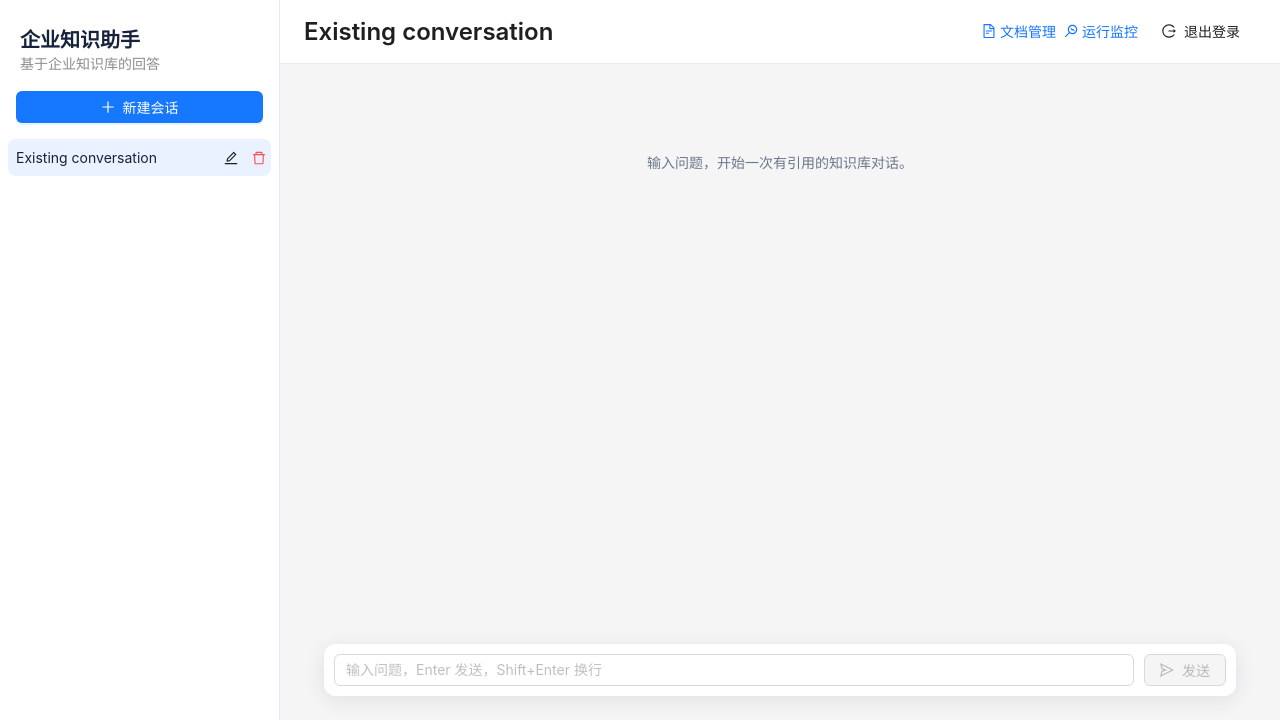
authentication and chat › stops and aborts an active stream
Expected: the link "Existing conversation" is shown, [16, 149, 157, 166]
Type "Long answer" into the text box labelled "问题" at (734, 670), box [334, 654, 1134, 686]
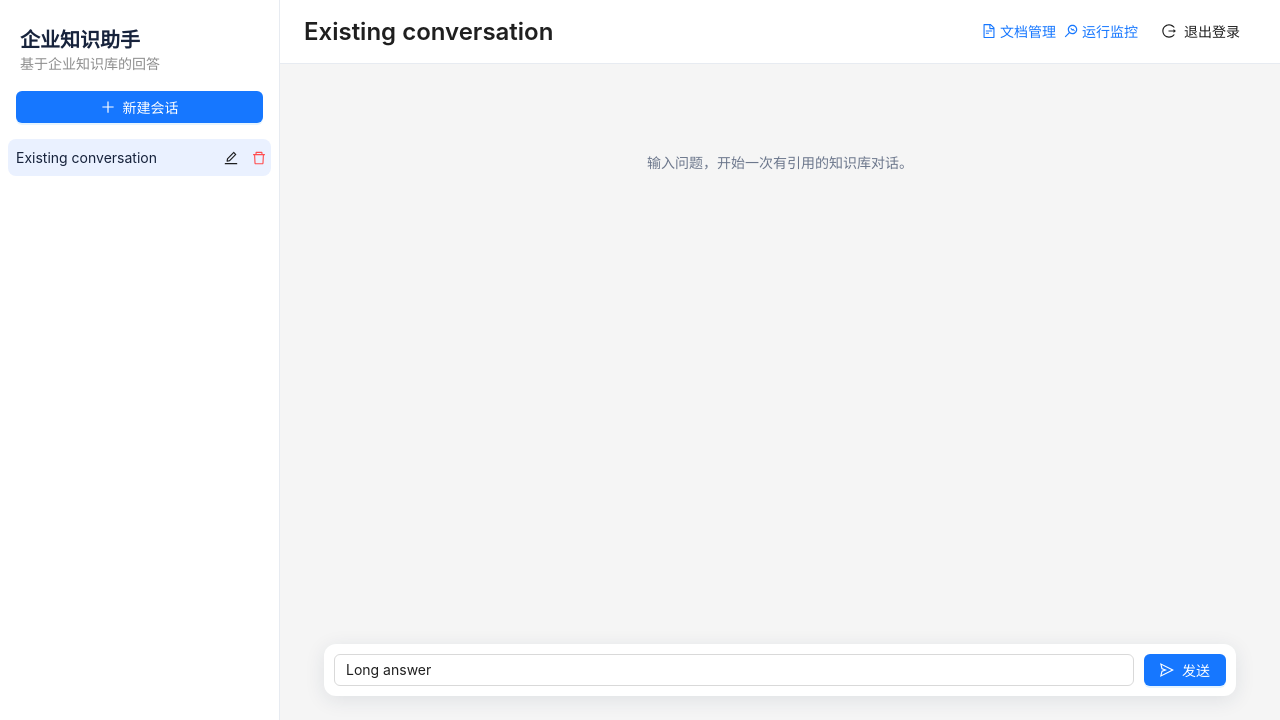
Click the button "发送" at (1185, 670), box [1144, 654, 1226, 686]
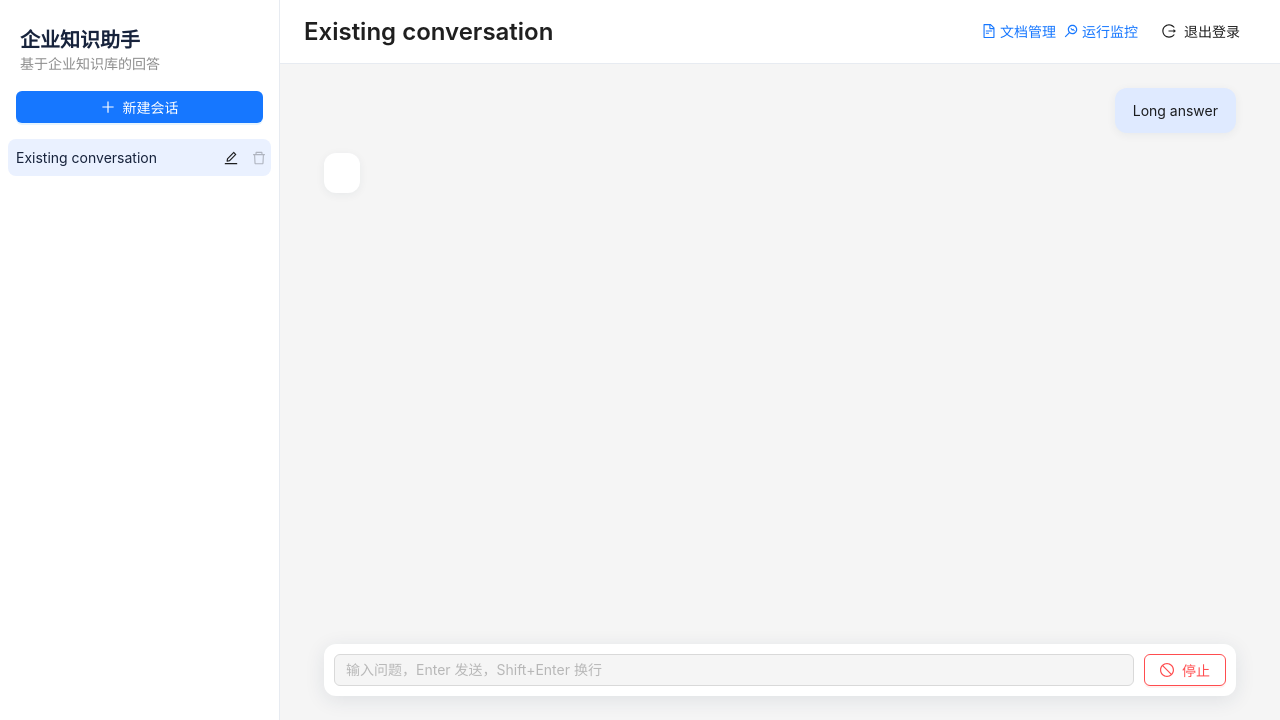
Click the button "停止" at (1185, 670), box [1144, 654, 1226, 686]
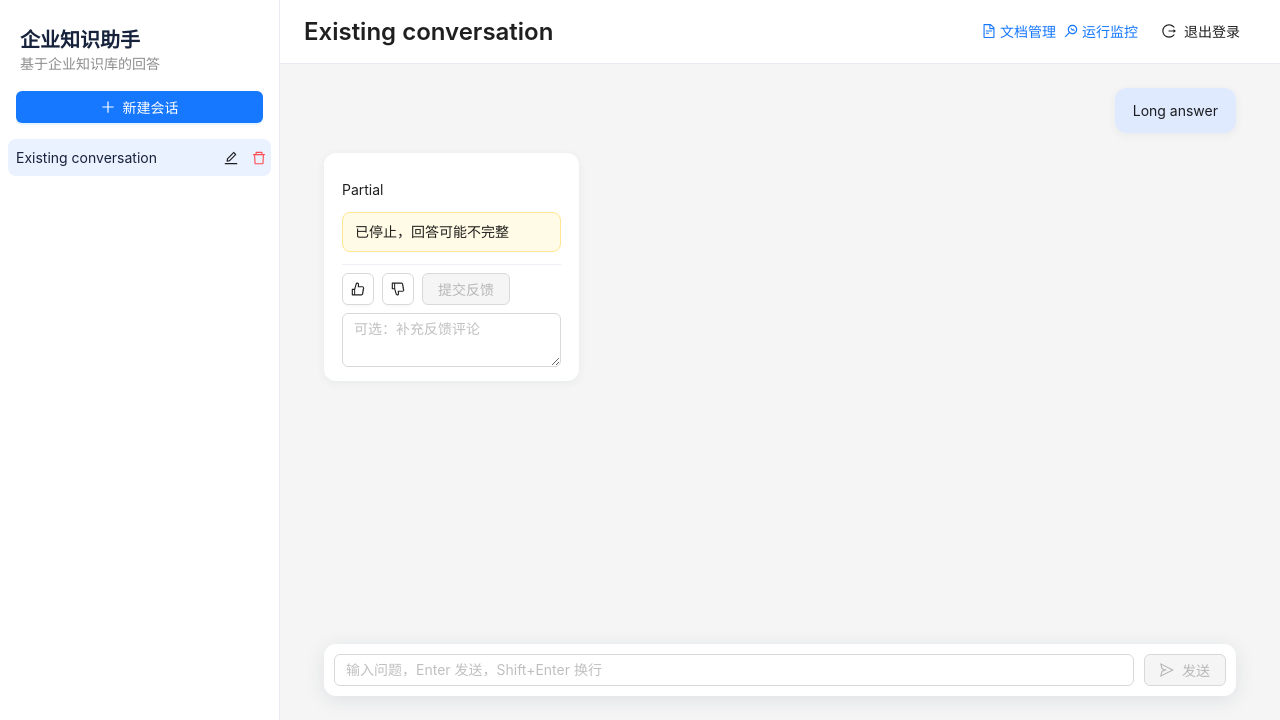
Expected: the text box labelled "问题" is enabled, [334, 654, 1134, 686]
Now the text "已停止，回答可能不完整" is shown, box [355, 223, 509, 240]
